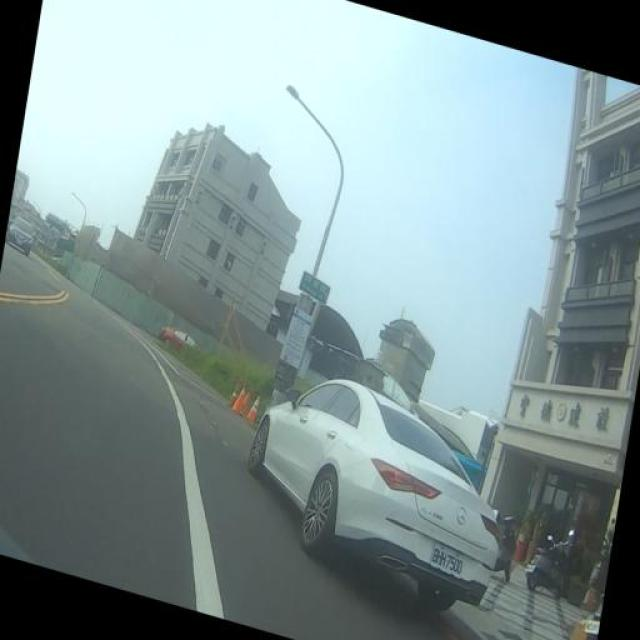Legalparking: (243, 331, 526, 624)
